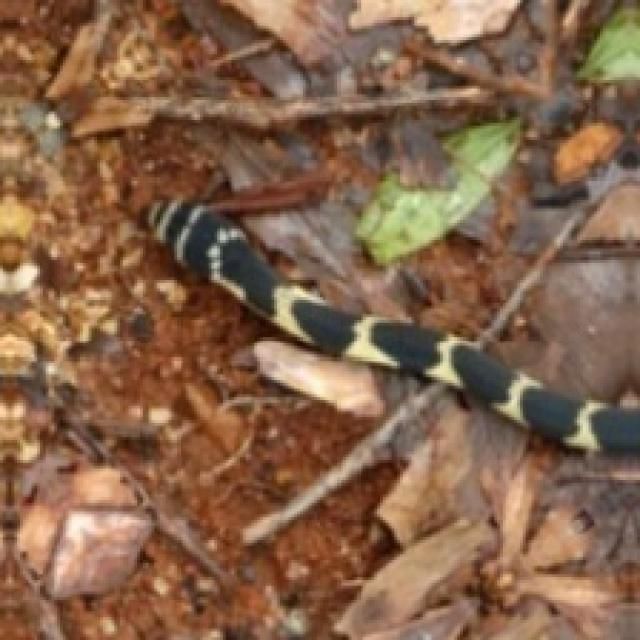king cobra: (149, 200, 637, 451)
